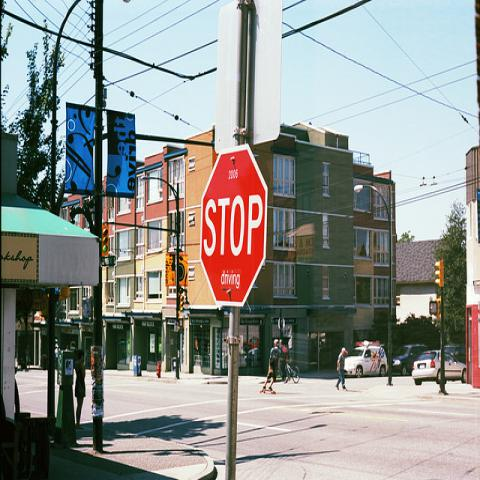car: (411, 350, 467, 385), (345, 342, 388, 376), (390, 344, 430, 376), (444, 343, 466, 365)
